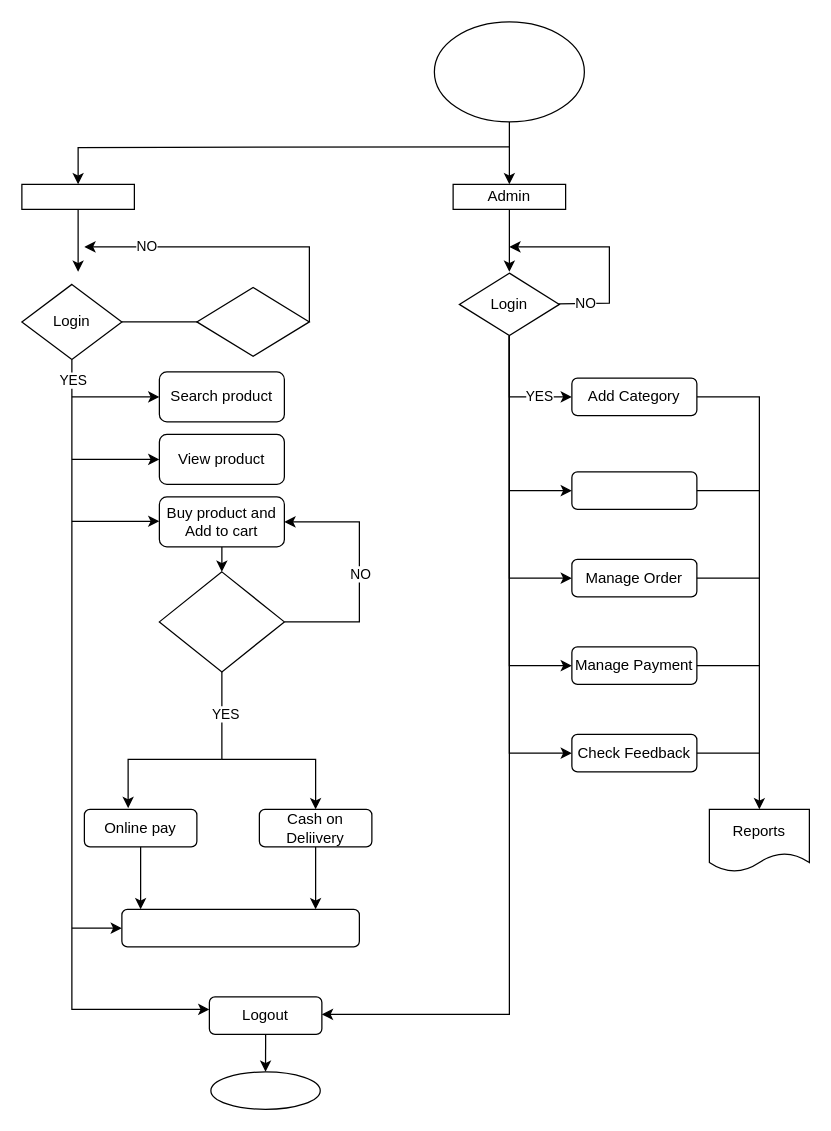
Some shapes in this 831 by 1131 pixel diagram are drawn without their labels. Each missing label, with the centre of its shape:
"Add Product" belongs at (634,490).
"Order Placed" belongs at (240,927).
"Payment" belongs at (221,621).
"Register" belongs at (252,321).
"Start" belongs at (508,71).
"Stop" belongs at (265,1090).
"User" belongs at (77,196).
